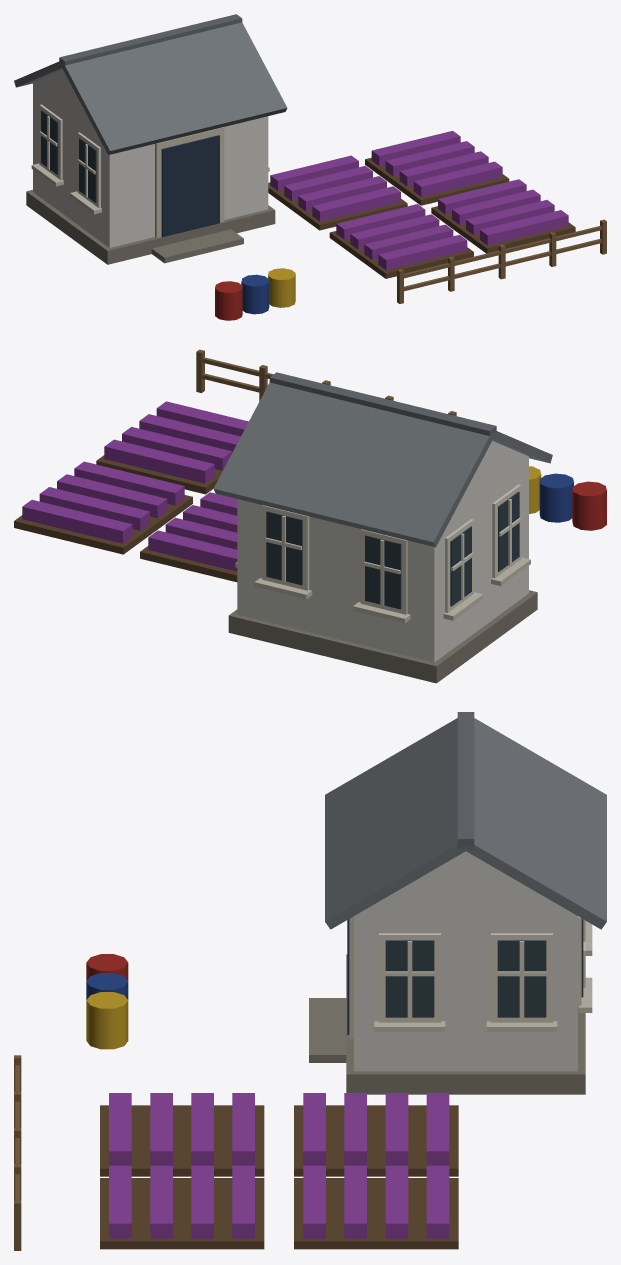
The model's file is procedural_dye_garden@6.glb.
3 views of the same model, one above another, from view 1: azimuth 30°, elevation 25°; view 2: azimuth 150°, elevation 25°; view 3: azimuth 270°, elevation 25° (orthographic). The views are drawn at different scales.
Parts seen in each view (by area): view 1: part_0; view 2: part_0; view 3: part_0.
Boxes of the visible parts, <box> form: part_0: <box>14,14,606,320</box>; part_0: <box>14,349,606,683</box>; part_0: <box>14,712,606,1250</box>.
Bounding box in the file's own units: 8.86 × 3.83 × 7.94.
